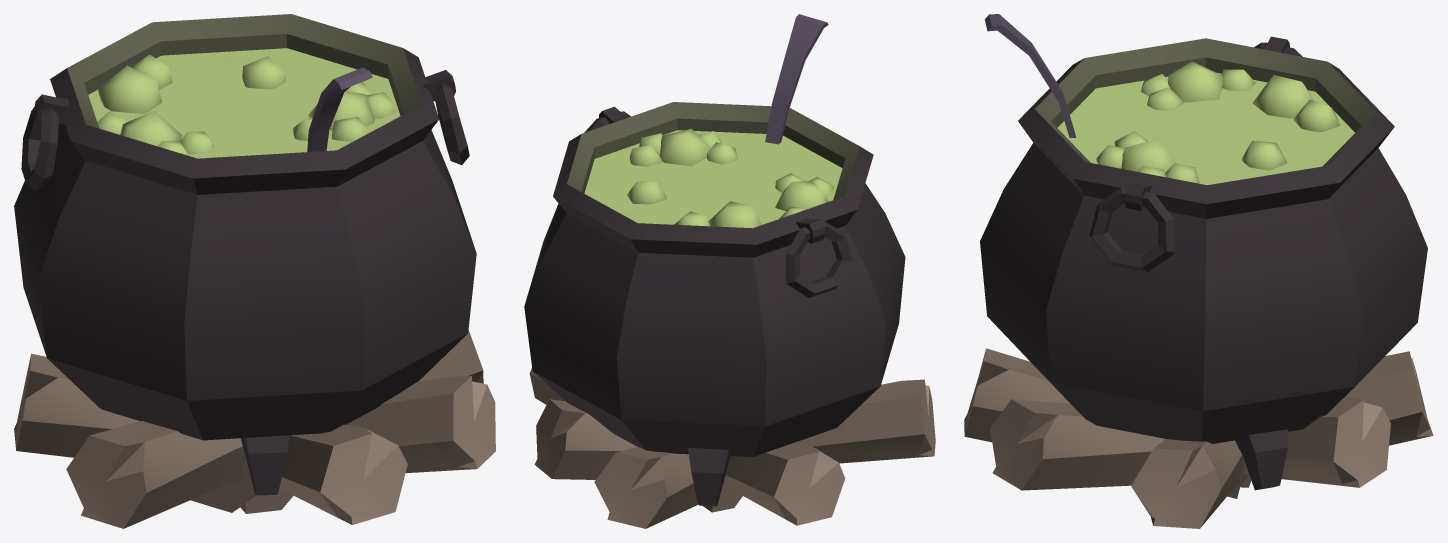
File: cauldron.glb
The picture shows the model from 3 angles, left to right: view 1: azimuth 30°, elevation 25°; view 2: azimuth 150°, elevation 25°; view 3: azimuth 270°, elevation 25°; orthographic projection. The views are drawn at different scales.
Parts seen in each view (by area): view 1: cauldron; view 2: cauldron; view 3: cauldron.
Part boxes in pixels (x1=…): cauldron: x1=14, y1=14, x2=495, y2=528; cauldron: x1=524, y1=14, x2=935, y2=528; cauldron: x1=964, y1=14, x2=1433, y2=528.
Bounding box in the file's own units: 8.82 × 9.73 × 8.76.
Materials: 3 (2 with a texture image).
